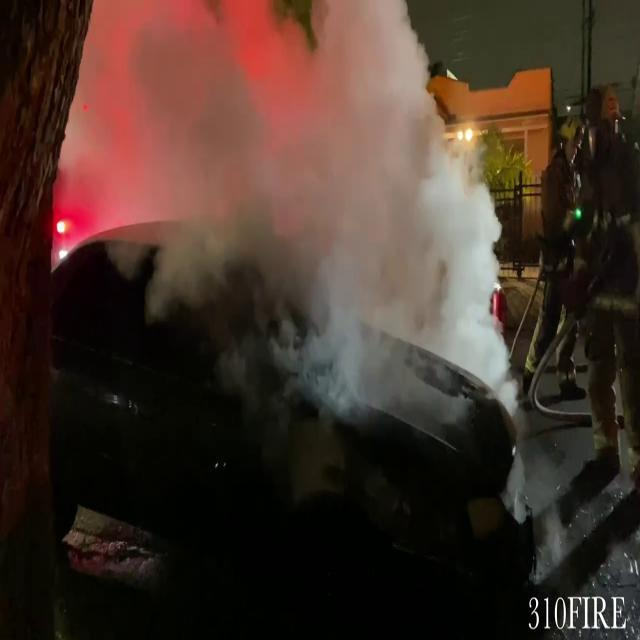Smoke: (106, 0, 520, 430)
